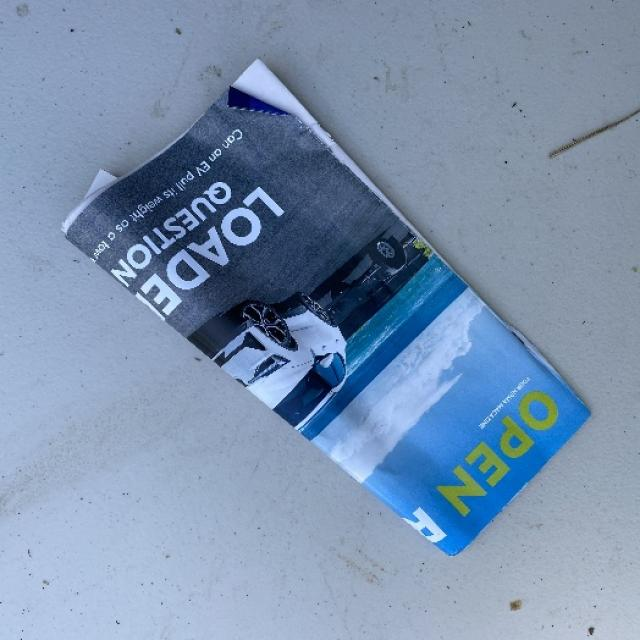inorganic: (62, 51, 596, 558)
